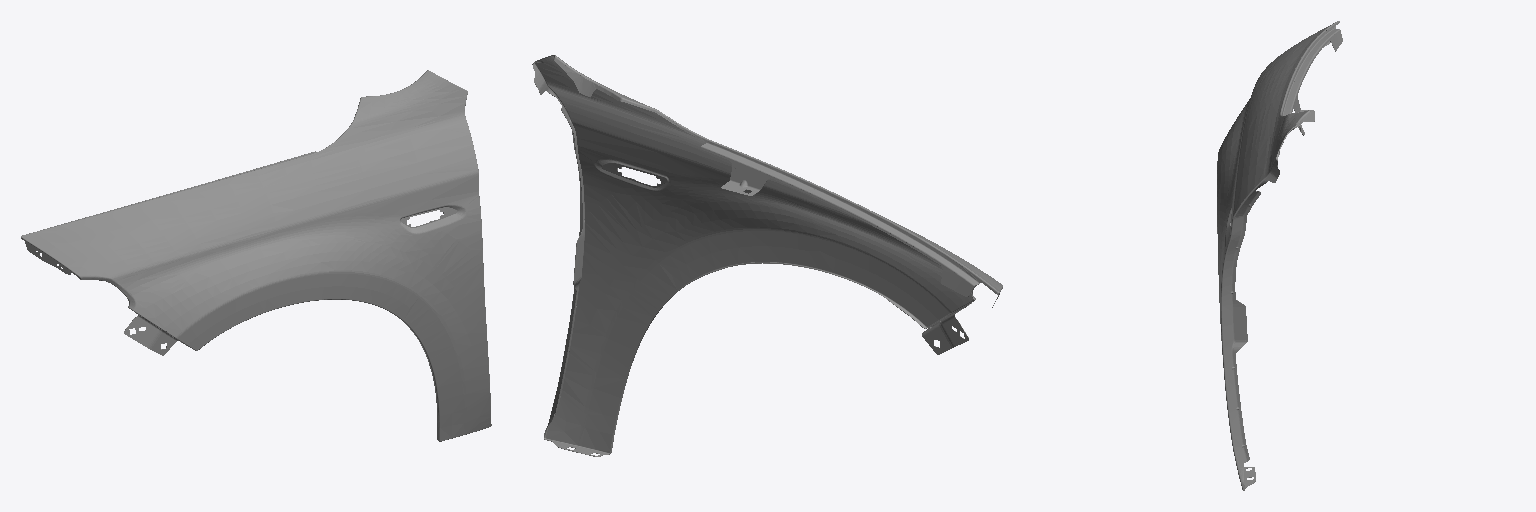
URDF robot description (car fender):
<robot name="car fender">
    <link name="left_back_fender">
        <visual>
            <geometry>
                <mesh filename="package://world/mesh/left_back_fender.stl" />
            </geometry>
            <material name="iron">
                <color rgba="0.6 0.6 0.6 1.0"/>
            </material>
        </visual>
    </link>

</robot>

--- What the picture shows (computed from the rendered views, not written in the file) ---
3 views of the same robot in one strip: view 1: azimuth 30°, elevation 25°; view 2: azimuth 150°, elevation 25°; view 3: azimuth 270°, elevation 25° (orthographic).
Model car fender with 1 links and 0 joints (none), rooted at left_back_fender, posed every joint at zero.
Links seen in each view (by area): view 1: left_back_fender; view 2: left_back_fender; view 3: left_back_fender.
Boxes of the visible links, bbox=[...] form: left_back_fender: bbox=[21, 70, 491, 441]; left_back_fender: bbox=[532, 55, 1002, 456]; left_back_fender: bbox=[1217, 21, 1342, 490].
Size in the robot's own frame: 0.9704 by 0.2474 by 0.7586 metres.
1 mesh visuals loaded from 1 distinct referenced files (1 binary STL).
